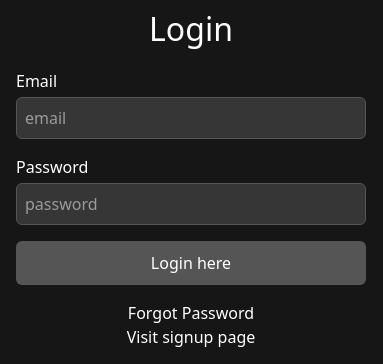
Test: LoginPage › enables button when fields are filled
Type "test@test.com" into the field labelled "Email". click: (191, 118)
box: [16,97,366,139]
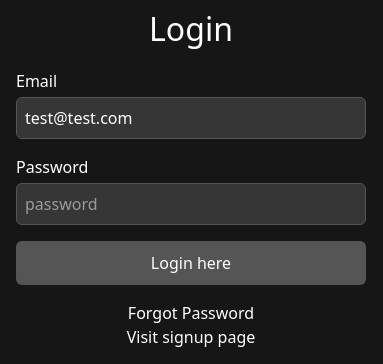
Type "Password1!" into the password field labelled "Password". click: (191, 204)
box: [16,183,366,225]
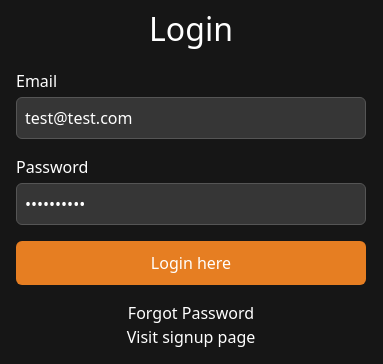
expect the button "Login here" is enabled: met, box [16,241,366,285]
